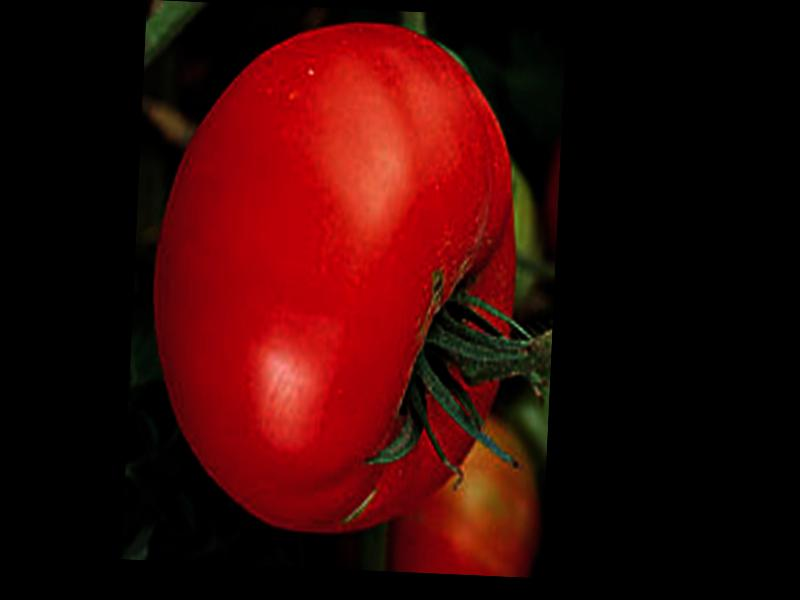Tomato: (142, 16, 524, 537)
